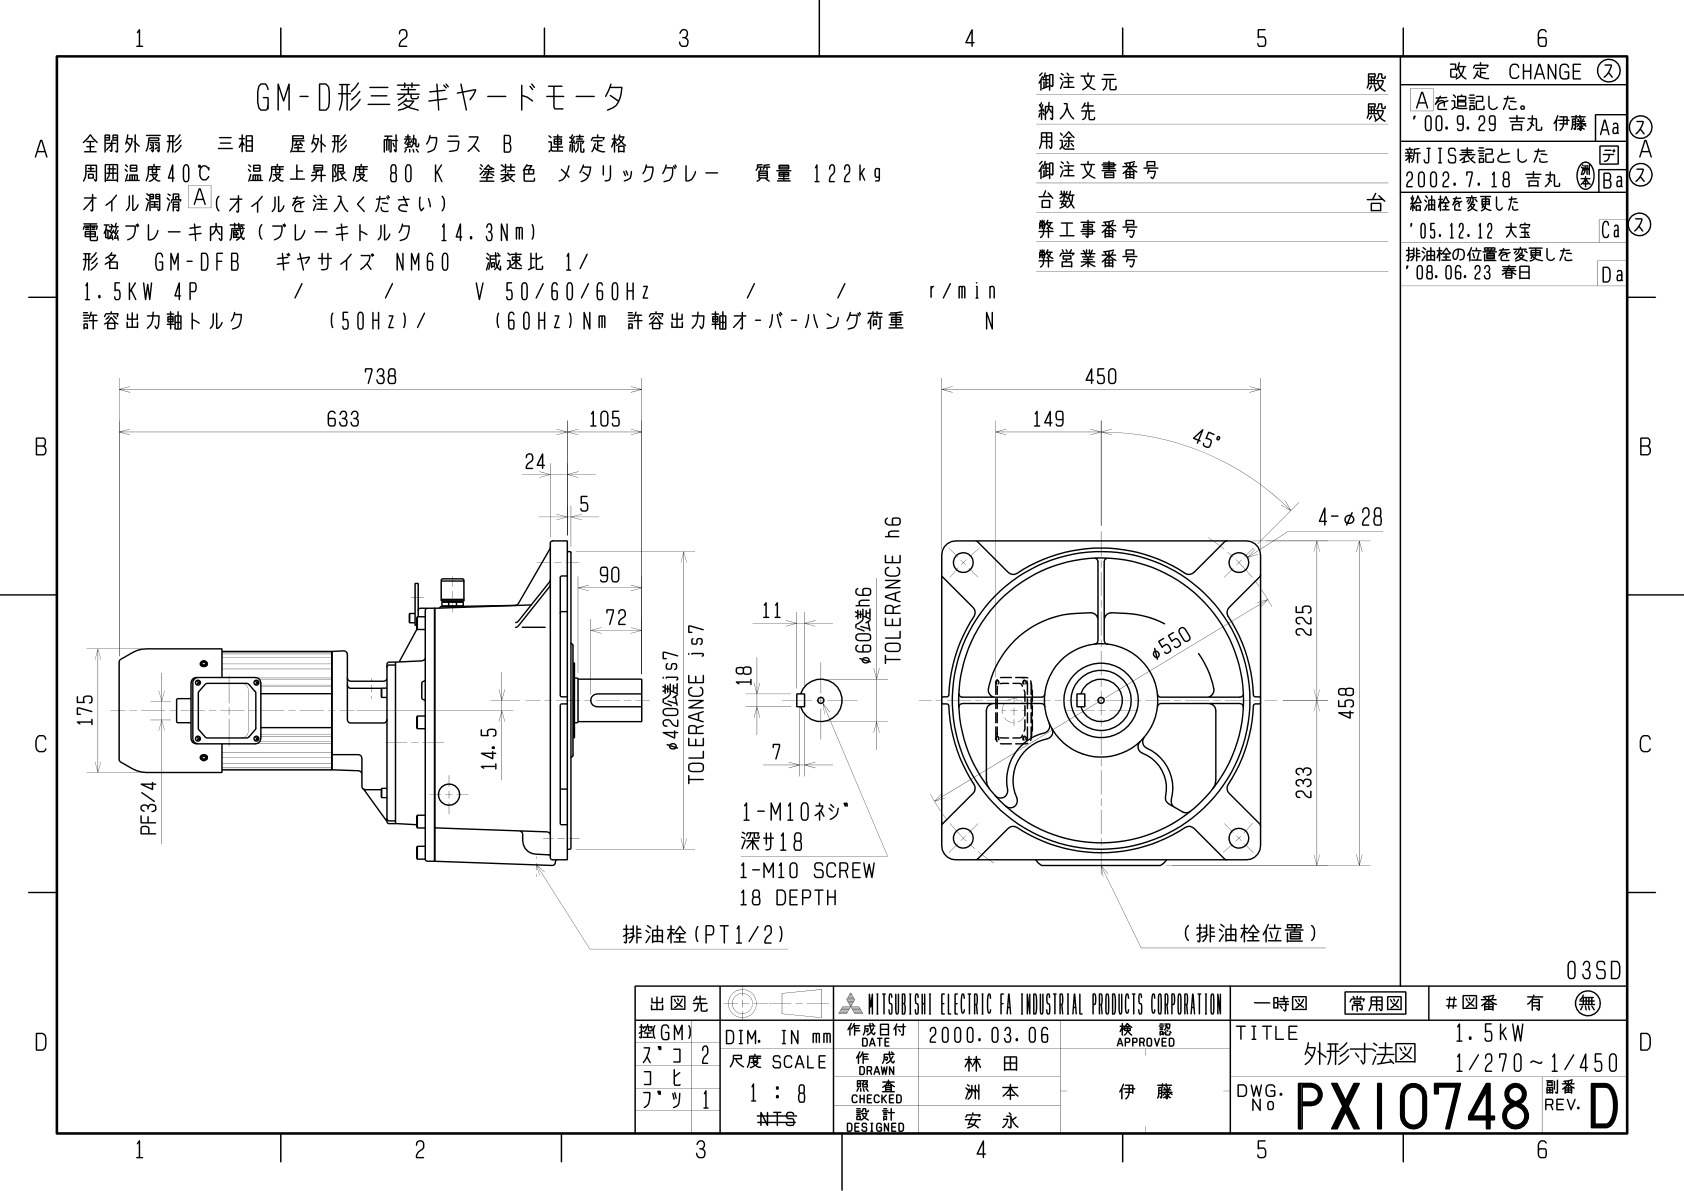GM_D_屋外＿三相_フランジ: (64, 345, 1393, 965)
